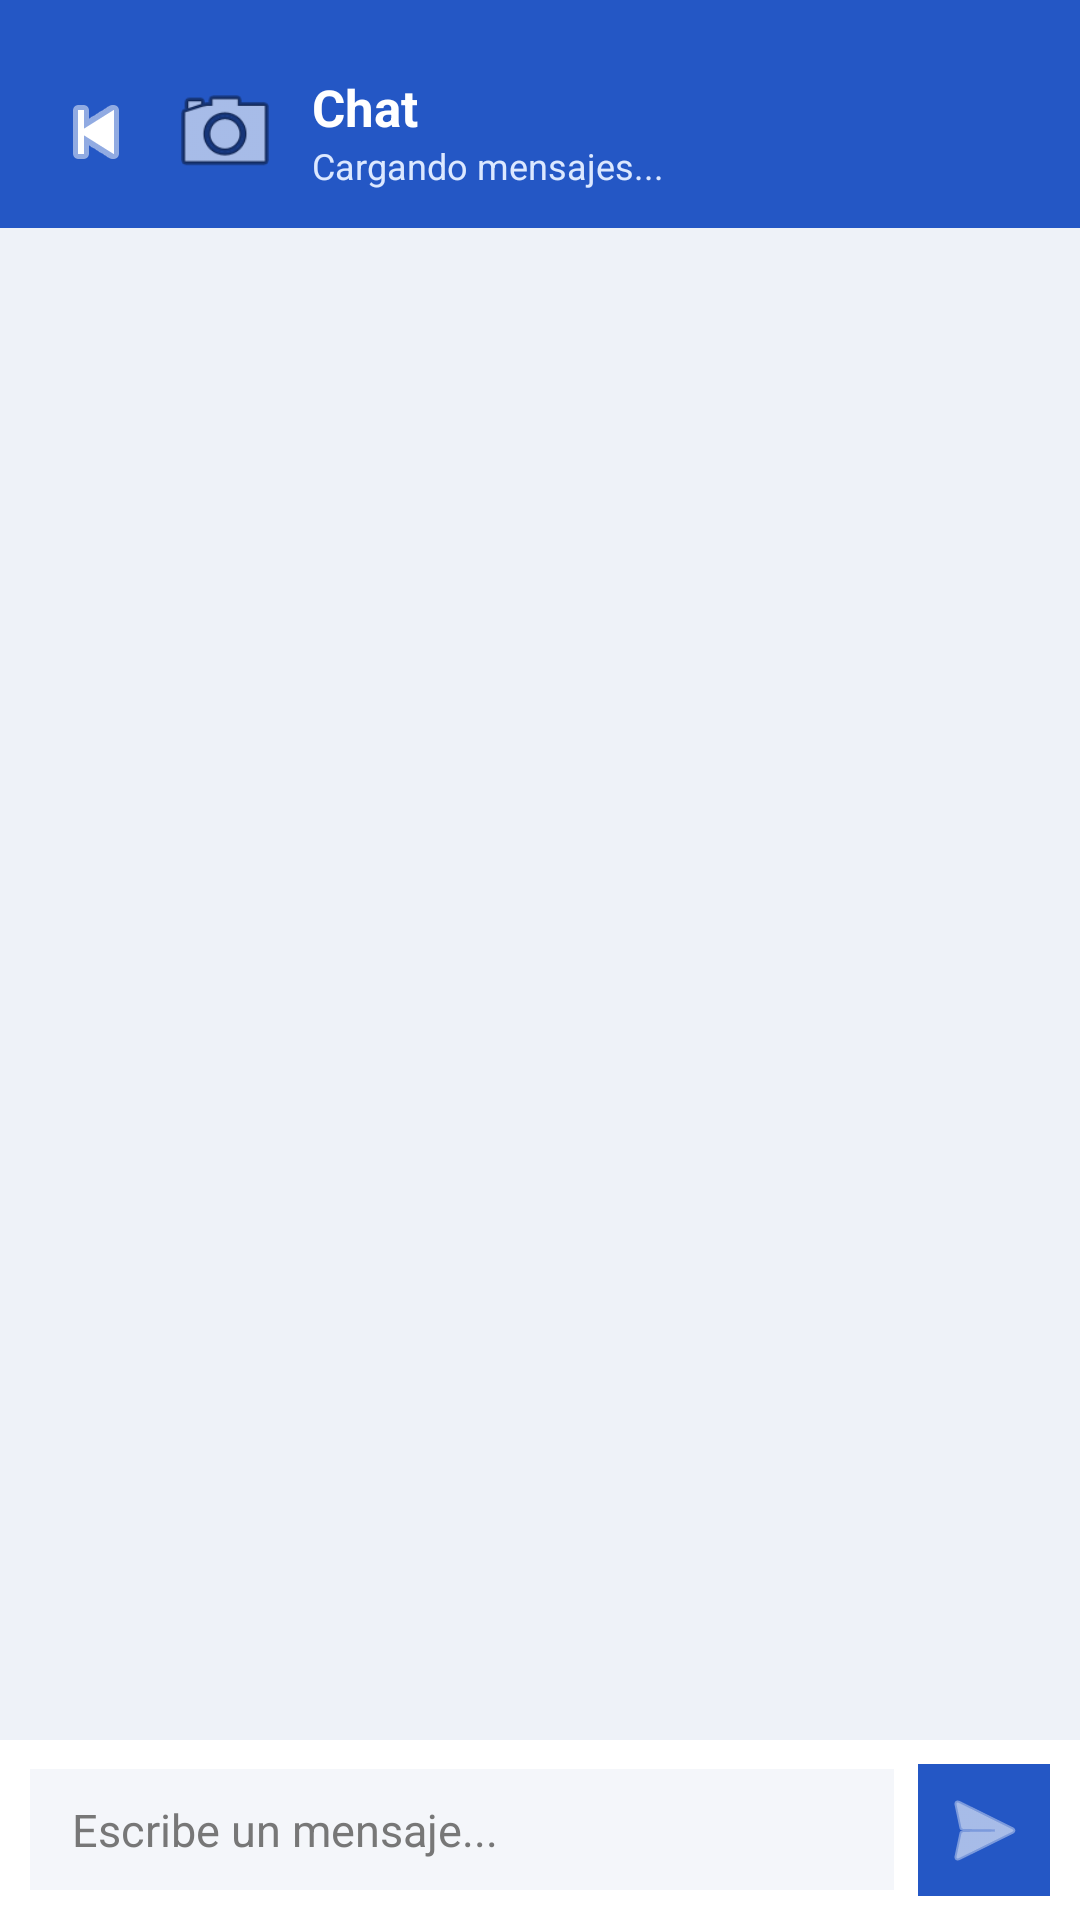

Named icons in this screenshot (1080*1920) and their bounding boxes, [x1, y1, x2, y2]:
Enviar mensaje: [918, 1764, 1050, 1896]
